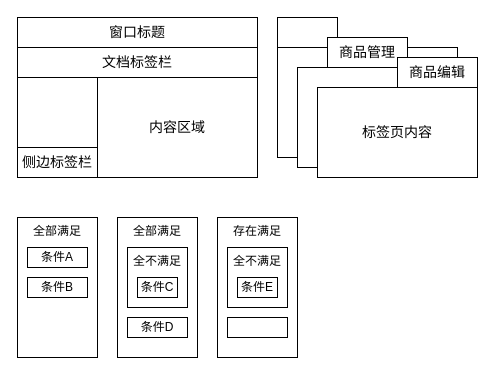
The diagram is 495 pixels wide and 375 high, and some of its shapes have lost their labels. Each missing label, with the centre of its shape:
主页: the point at 307,32
侧边面板: the point at 57,117
条件F: the point at 257,327
